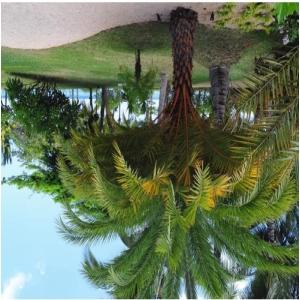palm tree: (1, 6, 299, 298)
